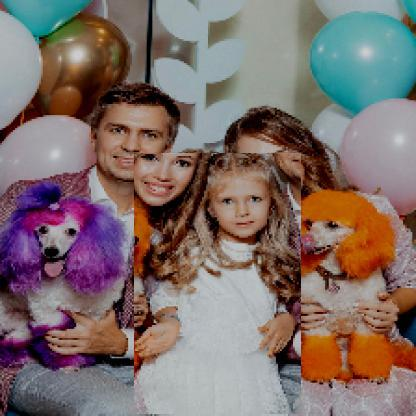child: (135, 154, 303, 416)
